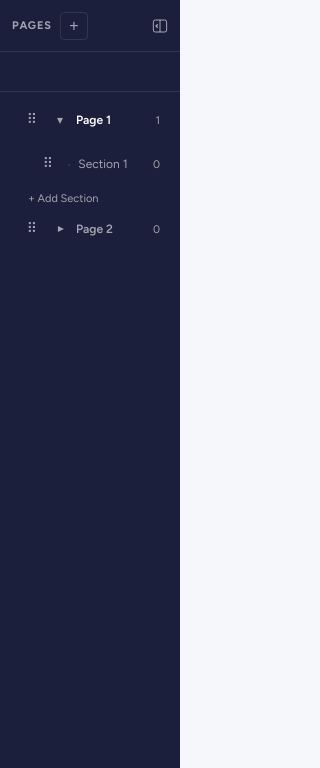
it: Sidebar › should show delete page button when multiple pages exist
Hover the page row
Hover over the button "⠿ ▾ Page 1 1" at (93, 120), box [27,111,160,128]
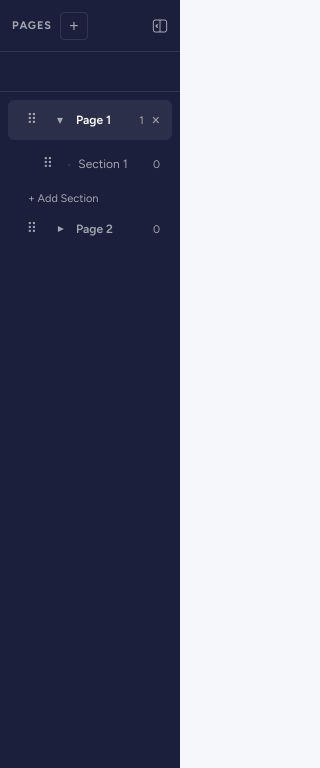
expect the button titled "Delete page" is shown: met, box [152,113,160,127]
